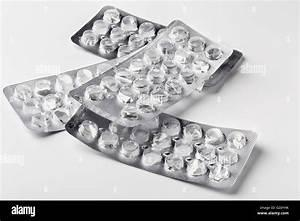pill_Strip: (66, 106, 256, 189), (83, 25, 223, 120), (3, 56, 125, 133), (135, 20, 241, 76), (159, 131, 255, 187), (71, 6, 165, 58), (71, 6, 164, 58), (3, 75, 64, 133), (204, 50, 242, 87), (21, 75, 55, 84)
